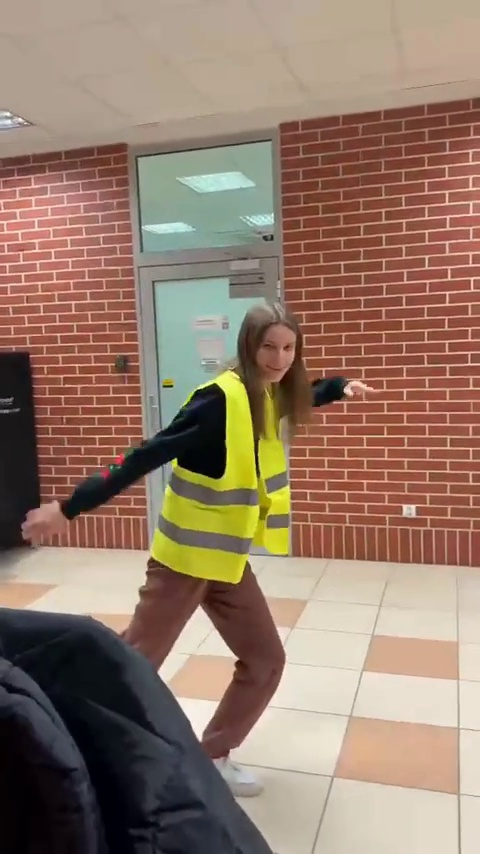vest: (166, 302, 322, 786)
